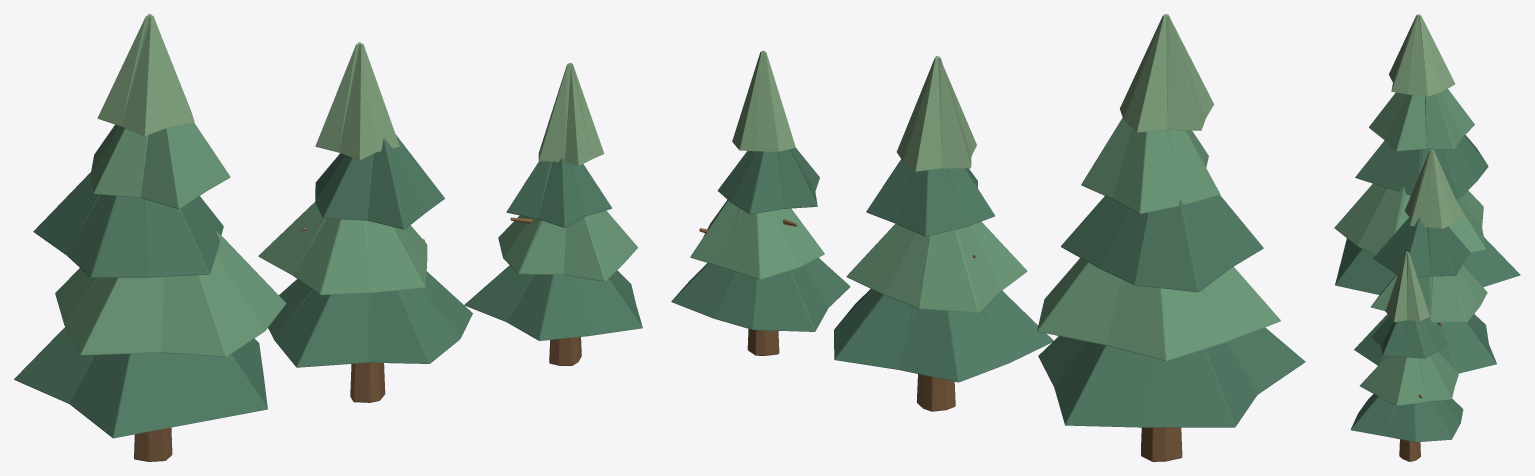
File: VegetationRepresentativeFamilyV1.glb
3 views of the same model, side by side, from view 1: azimuth 30°, elevation 25°; view 2: azimuth 150°, elevation 25°; view 3: azimuth 270°, elevation 25° (orthographic). The views are drawn at different scales.
Visible parts, largest first — view 1: Tree_Primary, Tree_Secondary, Tree_SecondaryB; view 2: Tree_Primary, Tree_Secondary, Tree_SecondaryB; view 3: Tree_Primary, Tree_Secondary, Tree_SecondaryB.
Boxes of the visible parts, x1,y1,x2,y2 form: Tree_Primary: [14, 14, 286, 461]; Tree_Secondary: [258, 42, 472, 402]; Tree_SecondaryB: [464, 63, 642, 365]; Tree_Primary: [1037, 14, 1305, 461]; Tree_Secondary: [834, 56, 1053, 411]; Tree_SecondaryB: [671, 50, 850, 355]; Tree_Primary: [1334, 14, 1520, 294]; Tree_Secondary: [1354, 149, 1496, 373]; Tree_SecondaryB: [1350, 251, 1463, 461].
Size of the model in its own units: 11.93 by 8.62 by 4.79.
